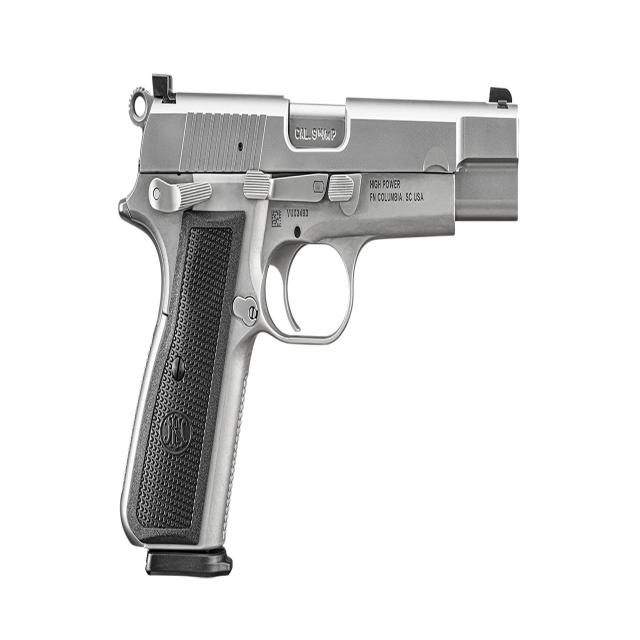HandGun: (117, 73, 521, 581)
